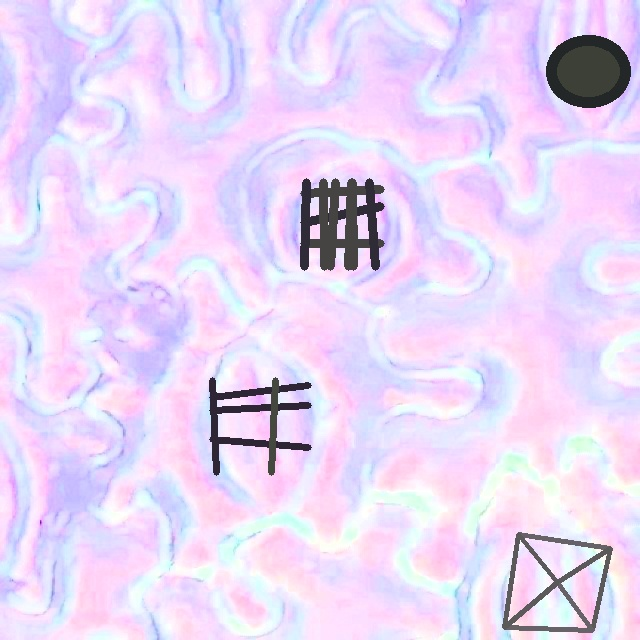close: (503, 532, 611, 632), (209, 377, 311, 475), (301, 179, 383, 270), (546, 35, 630, 107)
